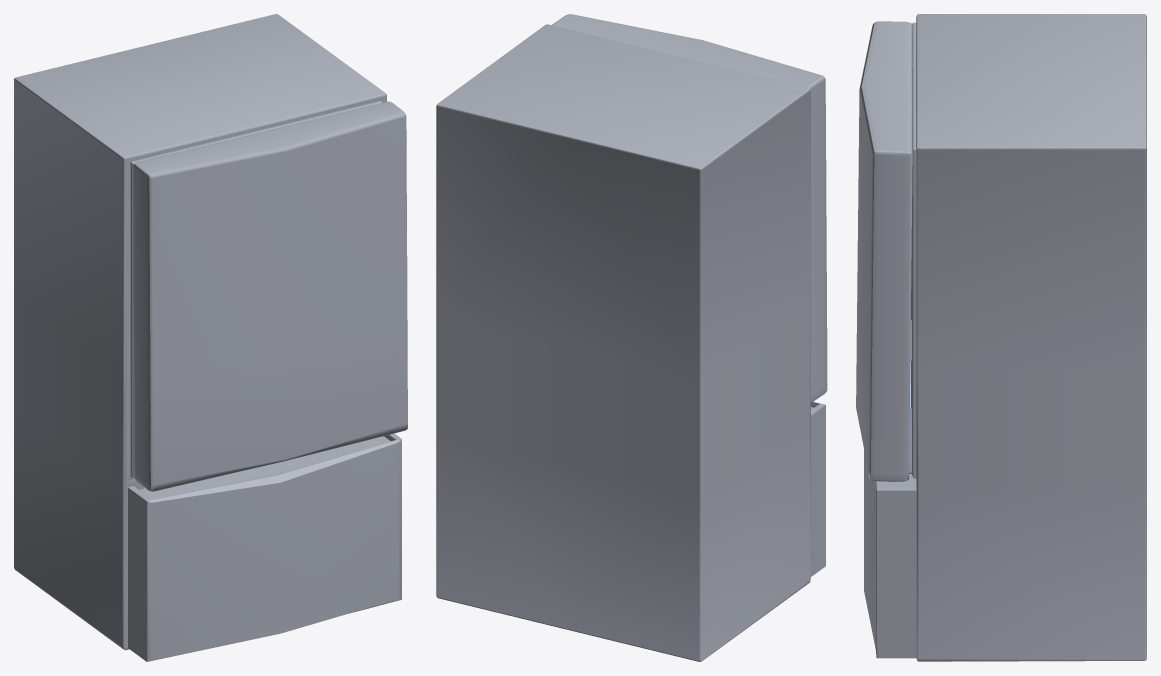
The model's file is Refrigerator.fbx.
The picture shows the model from 3 angles, left to right: view 1: azimuth 30°, elevation 25°; view 2: azimuth 150°, elevation 25°; view 3: azimuth 270°, elevation 25°; orthographic projection. The views are drawn at different scales.
Visible parts, largest first — view 1: Refrigerator_Door, Refrigerator_Body, Refrigerator_SlideDoor; view 2: Refrigerator_Body, Refrigerator_Door, Refrigerator_SlideDoor; view 3: Refrigerator_Body, Refrigerator_Door, Refrigerator_SlideDoor.
Part boxes in pixels (x1=…): Refrigerator_Door: x1=133, y1=101, x2=407, y2=491; Refrigerator_Body: x1=14, y1=14, x2=386, y2=650; Refrigerator_SlideDoor: x1=128, y1=433, x2=401, y2=661; Refrigerator_Body: x1=436, y1=24, x2=810, y2=661; Refrigerator_Door: x1=552, y1=14, x2=827, y2=402; Refrigerator_SlideDoor: x1=811, y1=402, x2=825, y2=576; Refrigerator_Body: x1=911, y1=14, x2=1146, y2=661; Refrigerator_Door: x1=856, y1=21, x2=912, y2=481; Refrigerator_SlideDoor: x1=864, y1=449, x2=916, y2=658.
Bounding box in the file's own units: 219 × 390 × 199.
